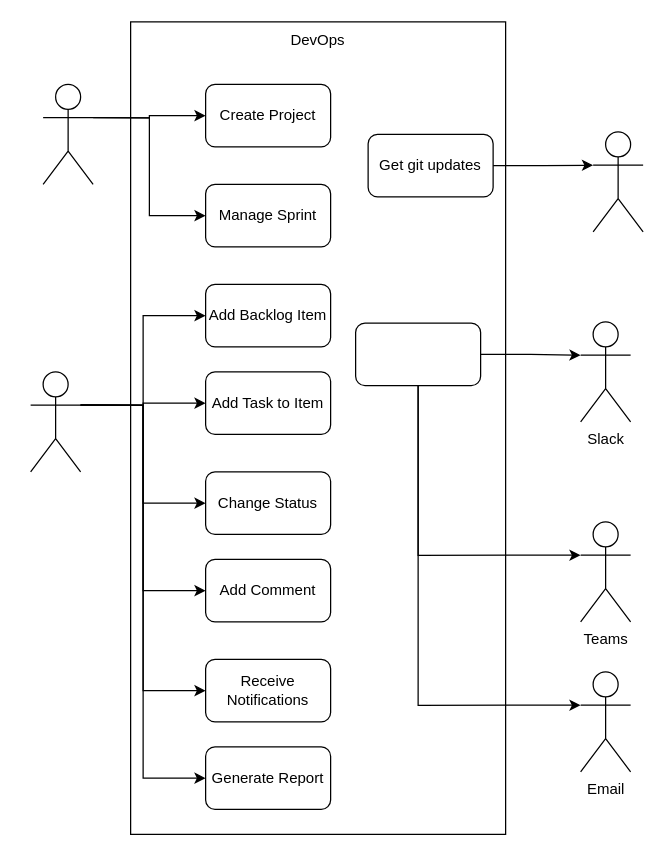
This 665x856 diagram has some shape labels left out. The centre of each missing label's shape, as x and y in pixels:
Developer: (x=55, y=421)
Github: (x=617, y=181)
Scrum Master: (x=67, y=133)
Send notification: (x=417, y=354)
